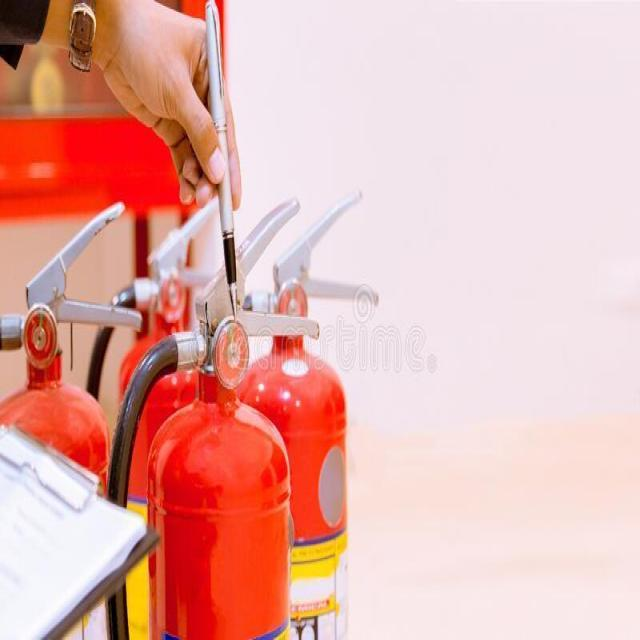fire_extinguisher: (96, 180, 324, 638), (220, 186, 382, 638), (80, 177, 227, 638), (0, 197, 148, 638)
